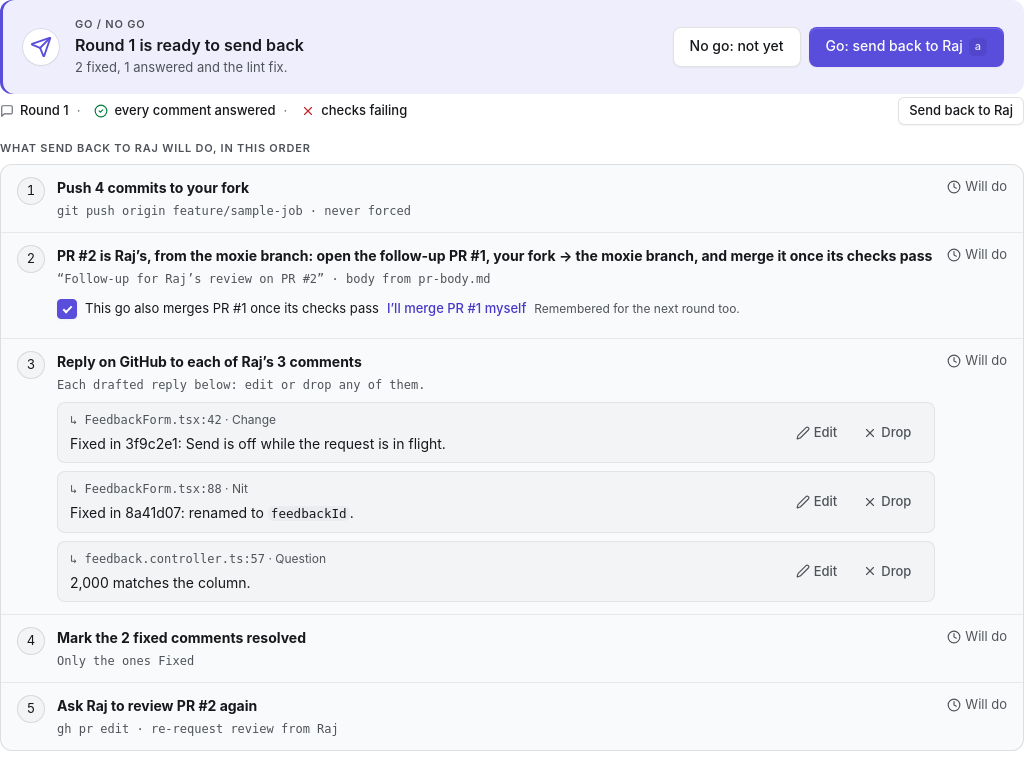
ready to send back › every step listed first, in order, with the exact step under it; one go sends it all, with the follow-up choice
The image size is (1024, 760).
Expected: the list item that starts with "Push 4 commits to your fork" shows "git push origin feature/sample-job · never forced", [57,204,411,218]
Expected: the 3rd list item does not show "the lint check", [1,339,1023,615]
Click the button "Go: send back to Raj a" at (906, 47), box [809,27,1004,67]
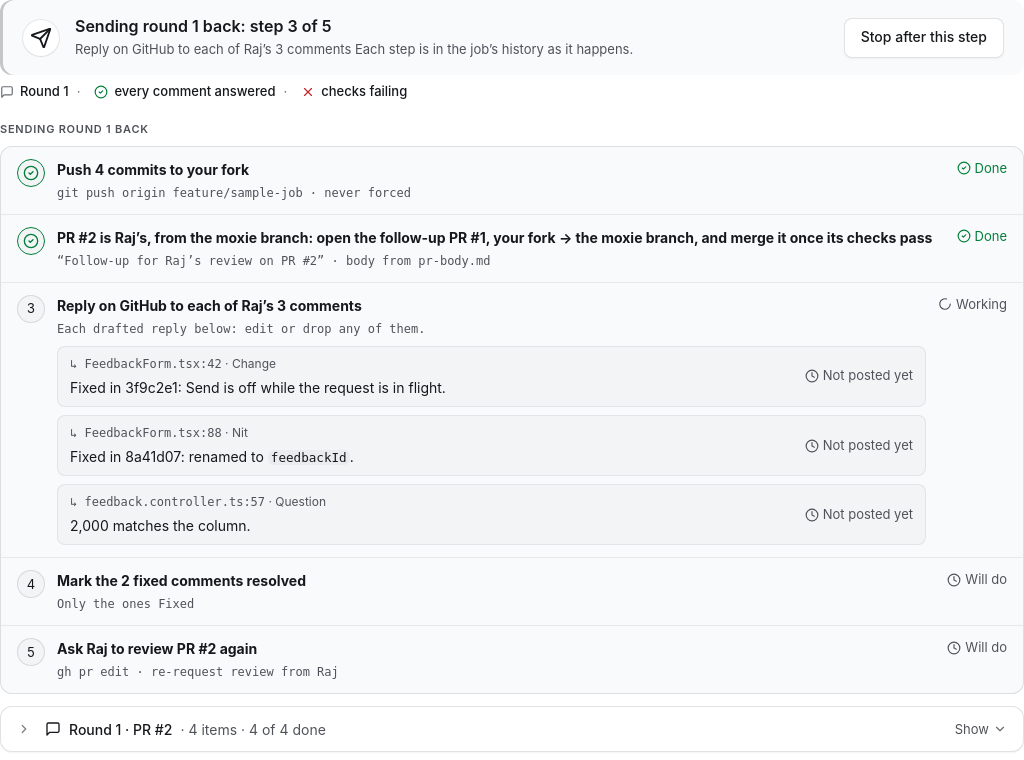
Result: the text "Sending round 1 back: step 3 of 5" is shown at [75,16,332,36]
